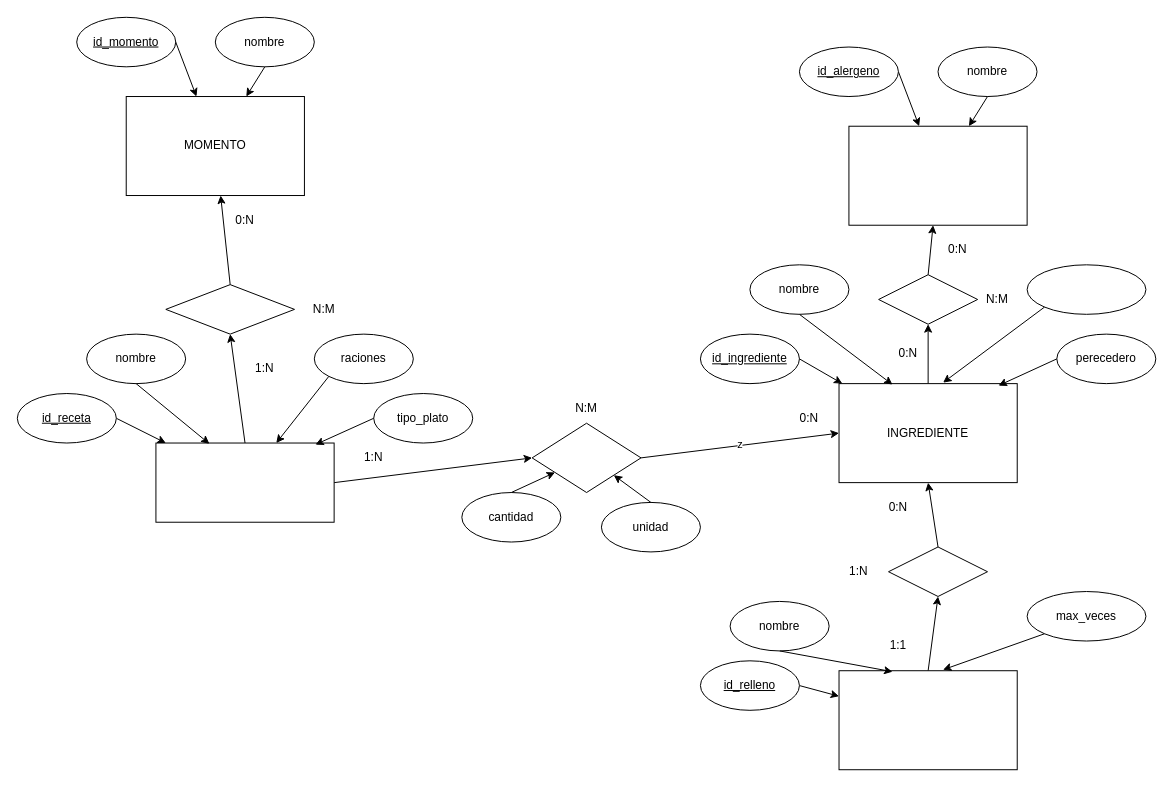
The diagram is 1173 pixels wide and 787 high, and some of its shapes have lost their labels. The box of each missing label's shape, as (x1, y1, x2, y2) in pixels:
ALERGENO: (848, 125, 1027, 225)
apto_vegetariano: (1026, 264, 1146, 314)
contiene: (531, 422, 641, 493)
lleva: (888, 546, 988, 596)
RECETA: (155, 442, 334, 522)
RELLENO: (838, 670, 1017, 770)
se sirve en: (165, 284, 295, 334)
tiene: (878, 274, 978, 324)
